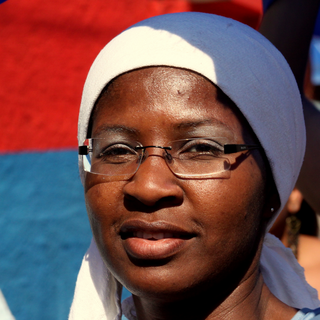eye: (180, 140, 228, 162), (106, 141, 147, 163)
